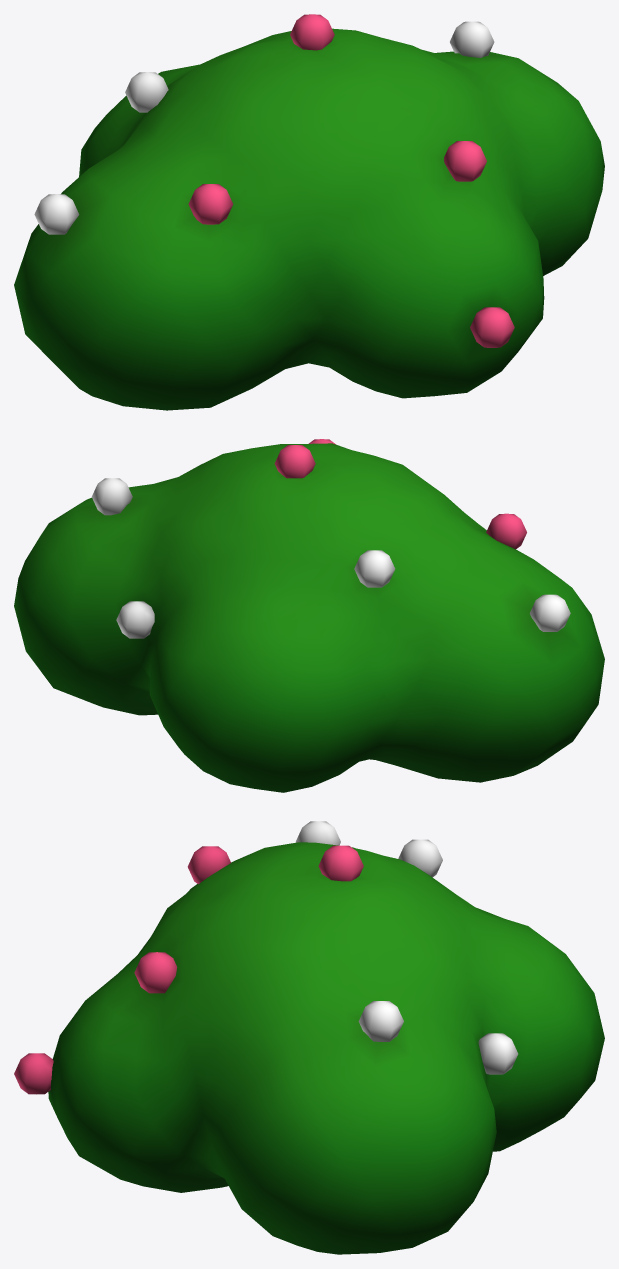
The model's file is Bush.fbx.
3 views of the same model, one above another, from view 1: azimuth 30°, elevation 25°; view 2: azimuth 150°, elevation 25°; view 3: azimuth 270°, elevation 25° (orthographic). The views are drawn at different scales.
Visible parts, largest first — view 1: Bush; view 2: Bush; view 3: Bush.
Boxes of the visible parts, x1,y1,x2,y2 form: Bush: (14,14,604,410); Bush: (14,439,604,792); Bush: (14,821,604,1254).
Bounding box in the file's own units: 1.78 × 0.9098 × 1.56.
